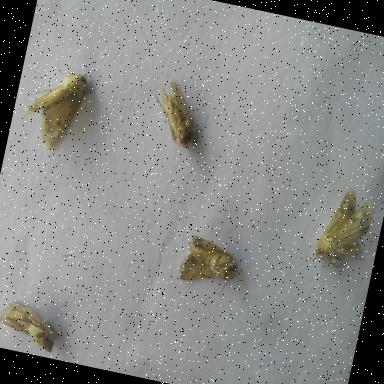abw: (13, 55, 94, 159), (308, 180, 382, 280), (168, 226, 249, 304), (139, 70, 212, 156), (0, 289, 66, 358)
